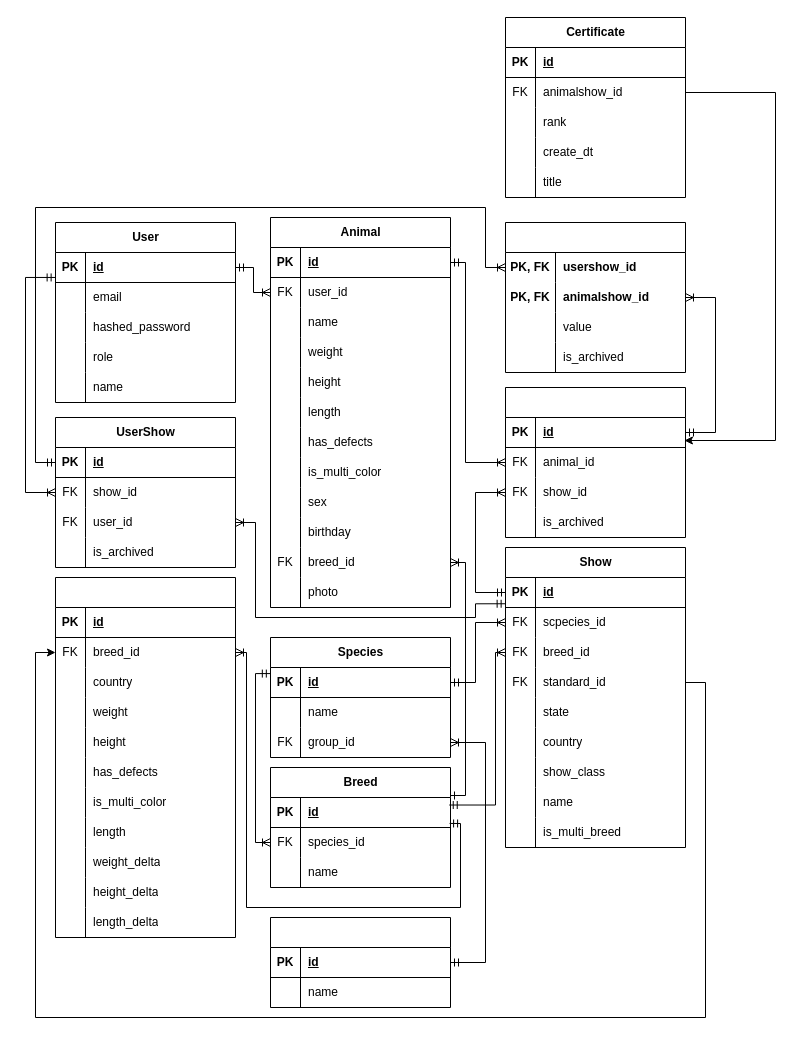
Image size: 801x1043. Some labels were removed from this diagram. Each missing label, with the box of its shape:
AnimalShow: (504, 386, 686, 538)
Group: (270, 916, 450, 1008)
Score: (504, 222, 686, 372)
Standard: (54, 576, 236, 938)
